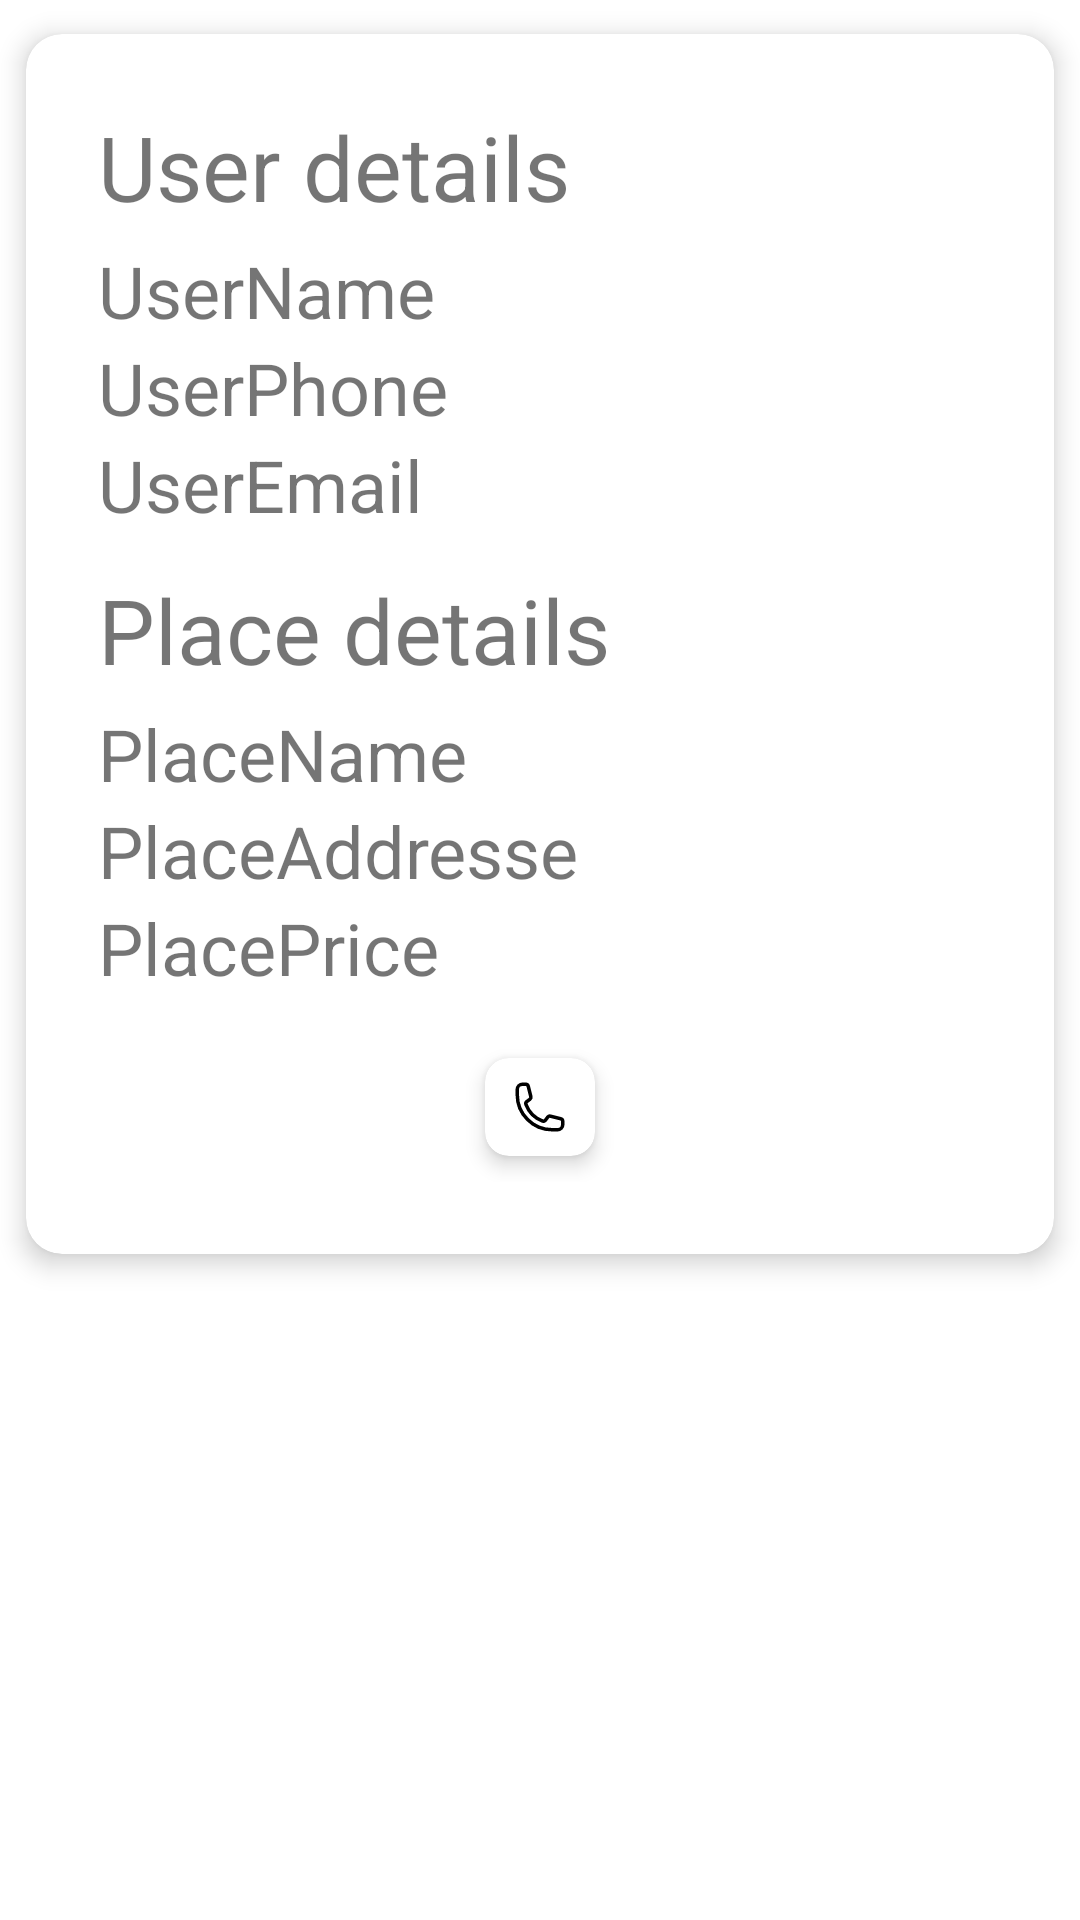

Icon bounding boxes for this 1080w x 1920h phone screenshot, format (x1, y1, x2, y2):
call: (515, 1082, 565, 1132)
